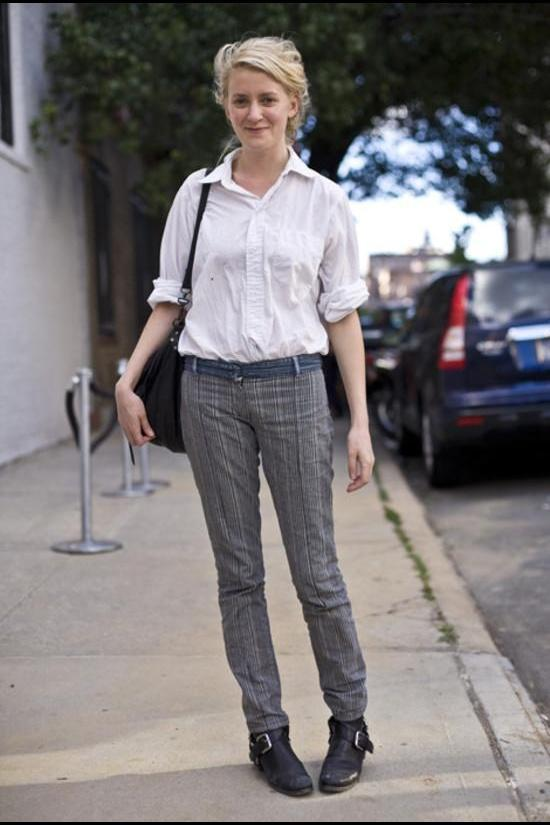pants: (179, 351, 366, 736)
shirt: (148, 146, 369, 363)
